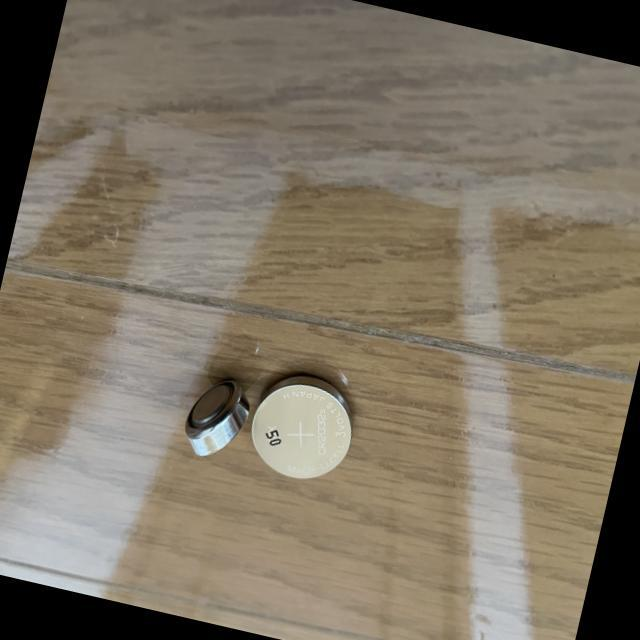COIN: (240, 363, 362, 488), (175, 370, 255, 467)
